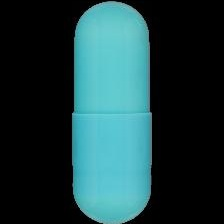10544-060: (0, 0, 224, 224)
